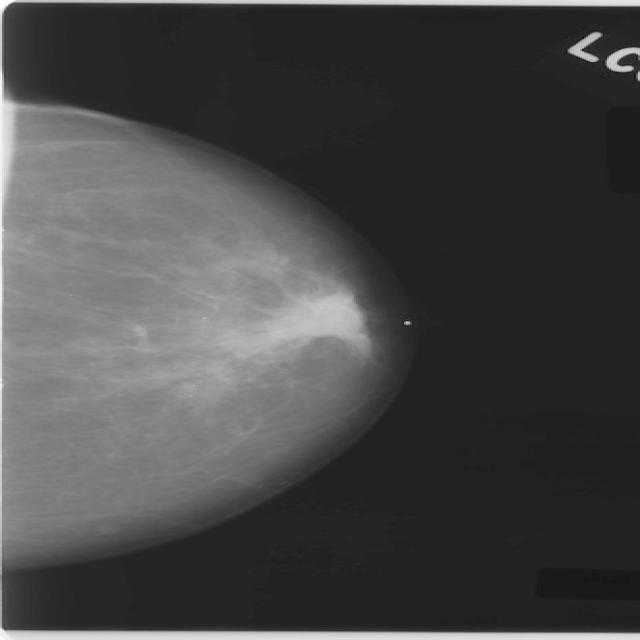tumour: (294, 290, 367, 338)
